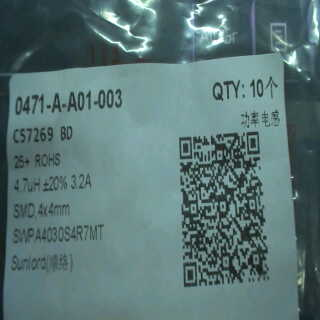4.7uH: (11, 173, 41, 197)
